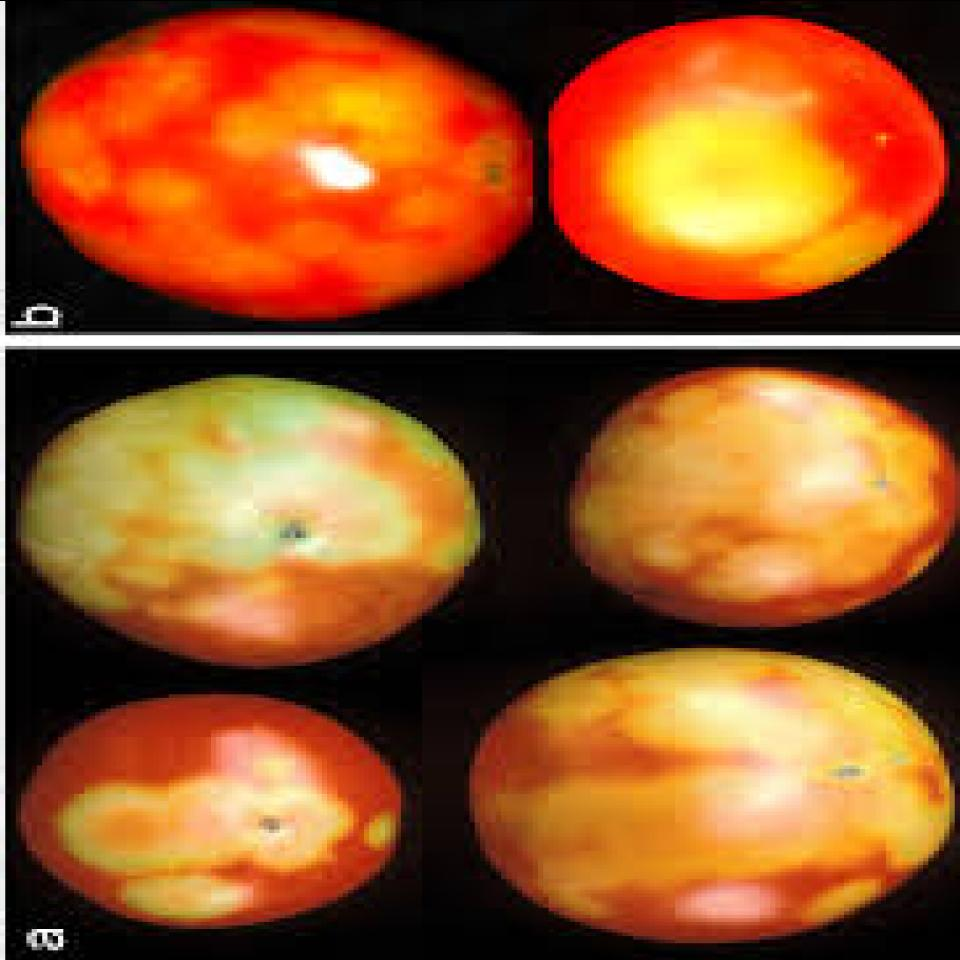Spotted wilt Virus: (28, 7, 524, 326), (459, 647, 960, 946), (7, 373, 480, 667), (548, 11, 945, 305), (565, 369, 956, 624), (19, 696, 401, 926)
